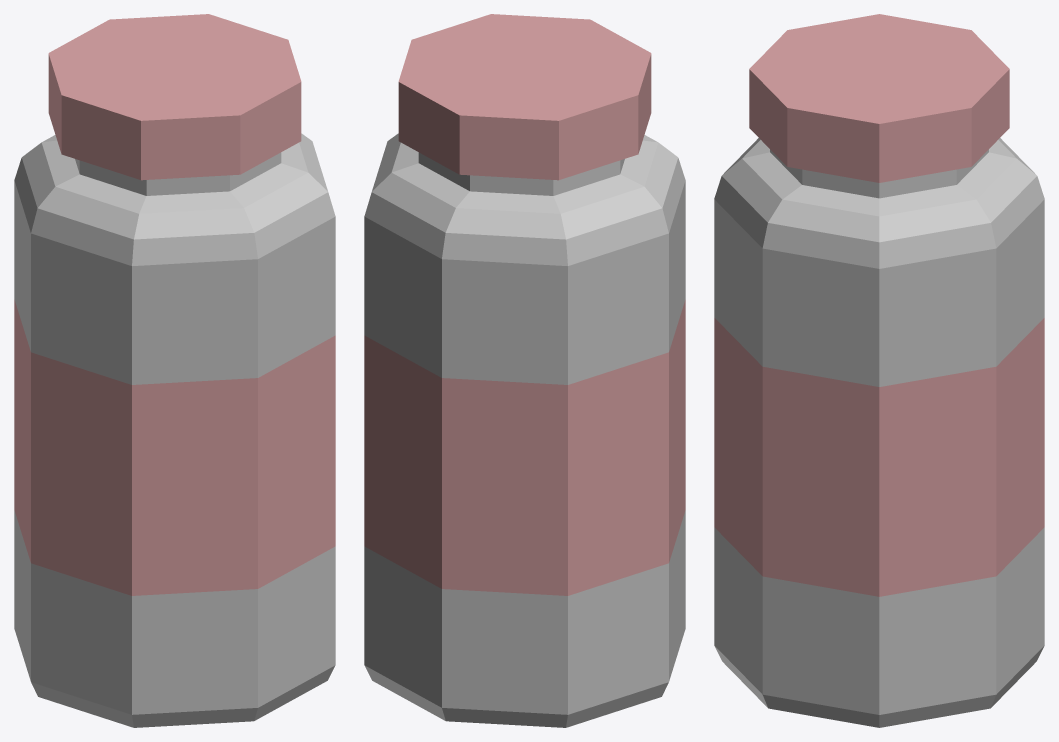
File: Milk_Donkey.fbx
3 views of the same model, side by side, from view 1: azimuth 30°, elevation 25°; view 2: azimuth 150°, elevation 25°; view 3: azimuth 270°, elevation 25° (orthographic).
Visible parts, largest first — view 1: Milk_Donkey; view 2: Milk_Donkey; view 3: Milk_Donkey.
Part boxes in pixels (x1=…): Milk_Donkey: x1=14, y1=14, x2=335, y2=727; Milk_Donkey: x1=364, y1=14, x2=685, y2=727; Milk_Donkey: x1=714, y1=14, x2=1044, y2=727.
Size of the model in its own units: 0.35 by 0.7 by 0.35.
